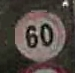limite 60: (12, 8, 67, 62)
